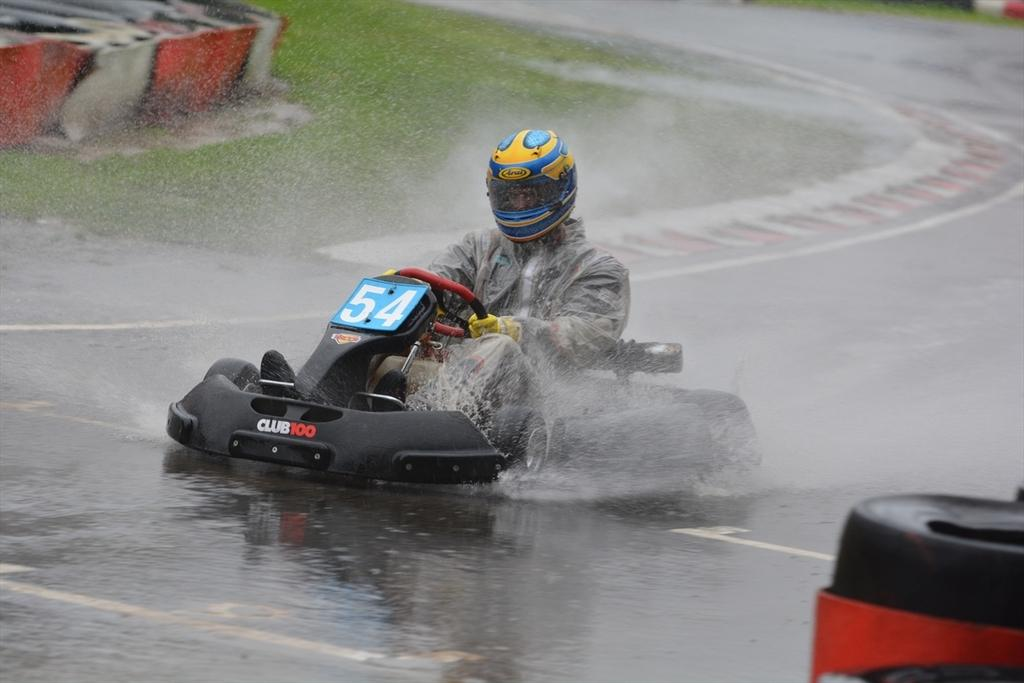helmet: (486, 129, 578, 244)
